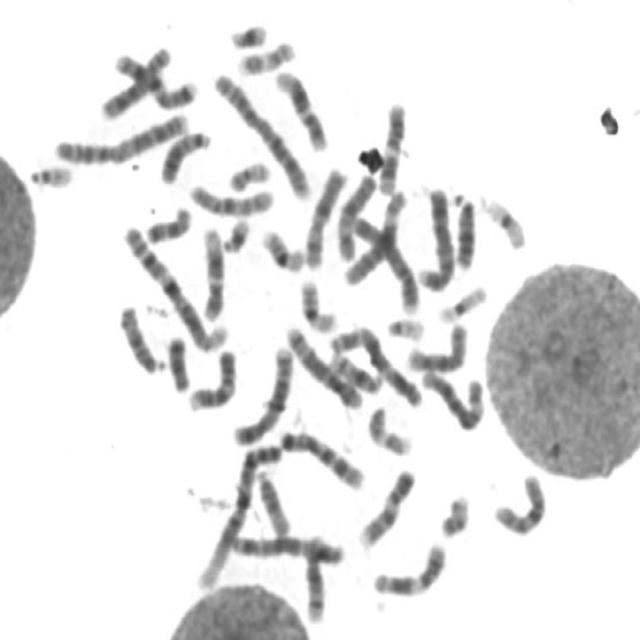A1: (117, 218, 230, 354), (190, 433, 286, 593)
A2: (208, 64, 314, 200), (48, 103, 191, 166)
A3: (323, 317, 425, 410), (225, 524, 344, 570)
B4: (347, 207, 423, 314), (412, 179, 458, 292)
B5: (280, 317, 366, 411), (226, 337, 296, 446)
C10: (488, 464, 550, 539), (183, 174, 277, 218)
C11: (367, 535, 449, 598), (373, 94, 409, 196)
C12: (269, 59, 330, 153), (195, 219, 228, 322)
C6: (339, 181, 411, 287), (416, 361, 487, 433)
C7: (272, 422, 368, 491), (108, 44, 200, 110)
C8: (94, 38, 174, 122), (401, 314, 471, 373)
C9: (352, 460, 418, 551), (182, 341, 239, 413)
D13: (154, 120, 213, 186), (448, 184, 479, 271)
D14: (298, 526, 330, 625), (324, 344, 386, 395)
D15: (112, 296, 168, 376), (249, 462, 293, 538)
E16: (293, 271, 340, 334), (255, 220, 309, 274)
E17: (362, 398, 415, 457), (232, 31, 298, 77)
E18: (139, 197, 194, 245), (160, 326, 193, 394)
F19: (477, 188, 530, 252), (432, 277, 490, 325)
F20: (434, 486, 474, 540), (222, 152, 273, 194)
G21: (224, 14, 270, 50), (216, 210, 253, 254)
G22: (23, 156, 76, 190), (382, 308, 428, 342)
X: (299, 160, 349, 270), (331, 165, 379, 264)
